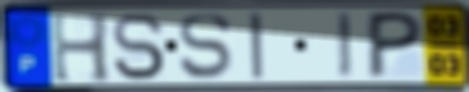H: (48, 10, 114, 86)
I: (245, 11, 267, 82), (334, 9, 355, 81)
P: (364, 10, 426, 81)
S: (176, 11, 235, 81), (111, 11, 168, 83)
